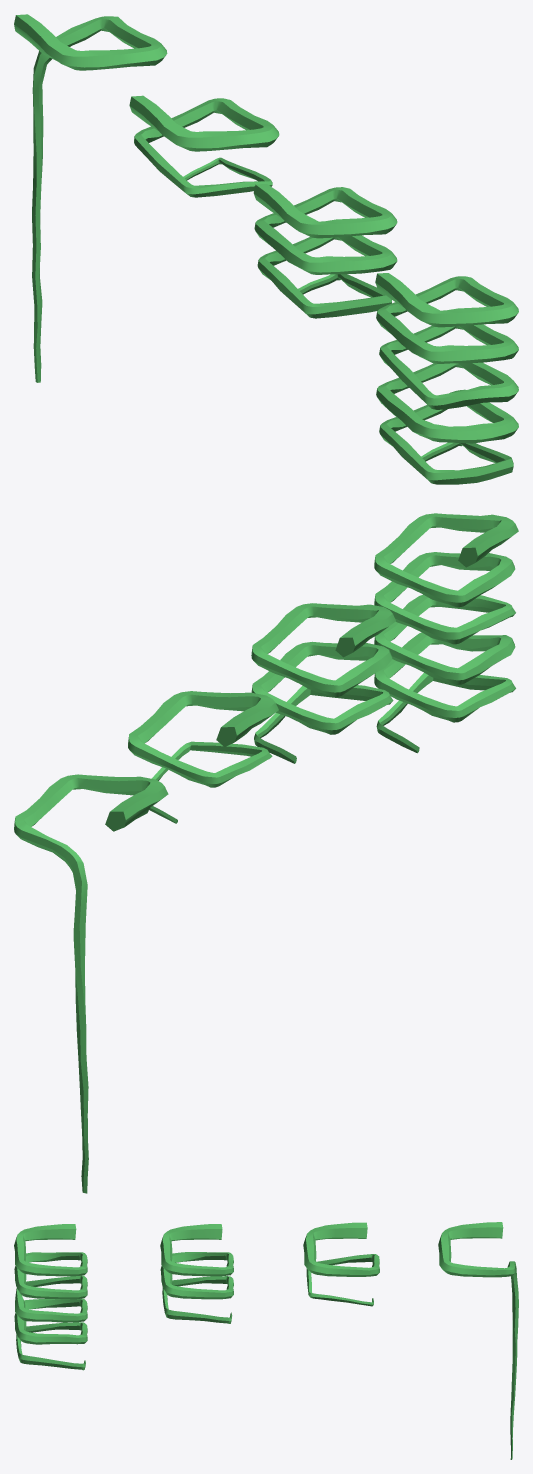
File: roots_solos_D.fbx
3 views of the same model, one above another, from view 1: azimuth 30°, elevation 25°; view 2: azimuth 150°, elevation 25°; view 3: azimuth 270°, elevation 25° (orthographic). The views are drawn at different scales.
Visible parts, largest first — view 1: roots_solos_D_A, roots_solos_D_B, roots_solos_D_D, roots_solos_D_C; view 2: roots_solos_D_A, roots_solos_D_B, roots_solos_D_D, roots_solos_D_C; view 3: roots_solos_D_A, roots_solos_D_B, roots_solos_D_D, roots_solos_D_C.
Boxes of the visible parts, x1,y1,x2,y2 form: roots_solos_D_A: (375, 273, 518, 484); roots_solos_D_B: (253, 184, 397, 318); roots_solos_D_D: (14, 14, 167, 382); roots_solos_D_C: (129, 95, 279, 197); roots_solos_D_A: (374, 513, 518, 753); roots_solos_D_B: (251, 603, 395, 763); roots_solos_D_D: (14, 774, 168, 1193); roots_solos_D_C: (128, 691, 278, 823); roots_solos_D_A: (14, 1224, 87, 1370); roots_solos_D_B: (160, 1224, 233, 1323); roots_solos_D_D: (438, 1222, 518, 1459); roots_solos_D_C: (303, 1222, 379, 1306).
Size of the model in its own units: 91.46 by 294 by 587.
